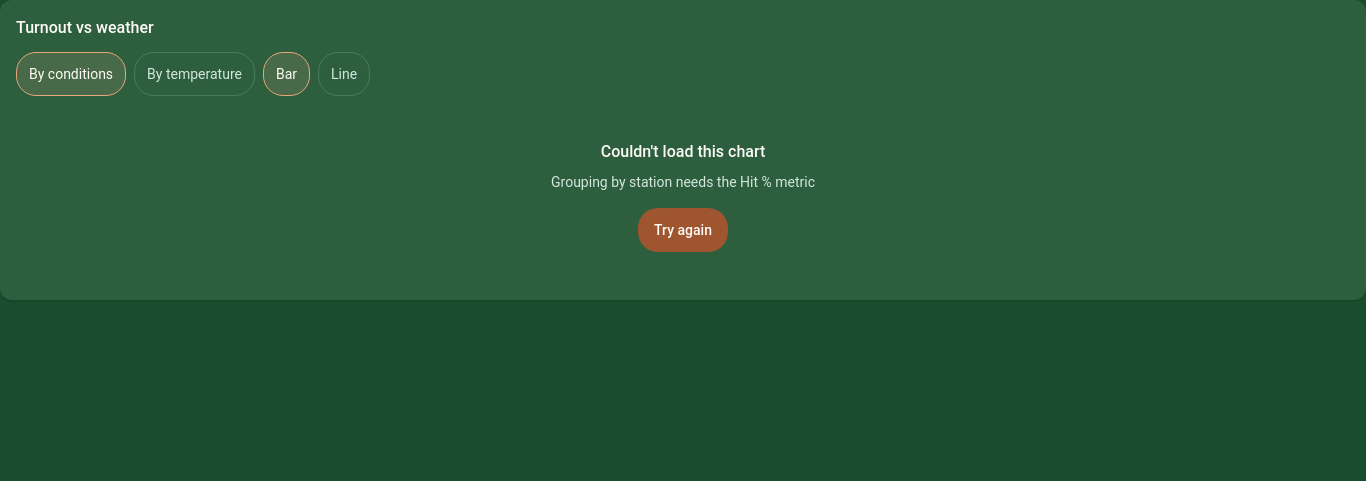
Test case: ChartCard › shows the server's invalid_query message and retries
expect the text "Grouping by station needs the Hit % metric" is shown: met, box [551,172,815,192]
What coordinates should you click on to do the following:
click the button "Try again"
I would click on:
 (683, 230)
Its box is [638,208,728,252].
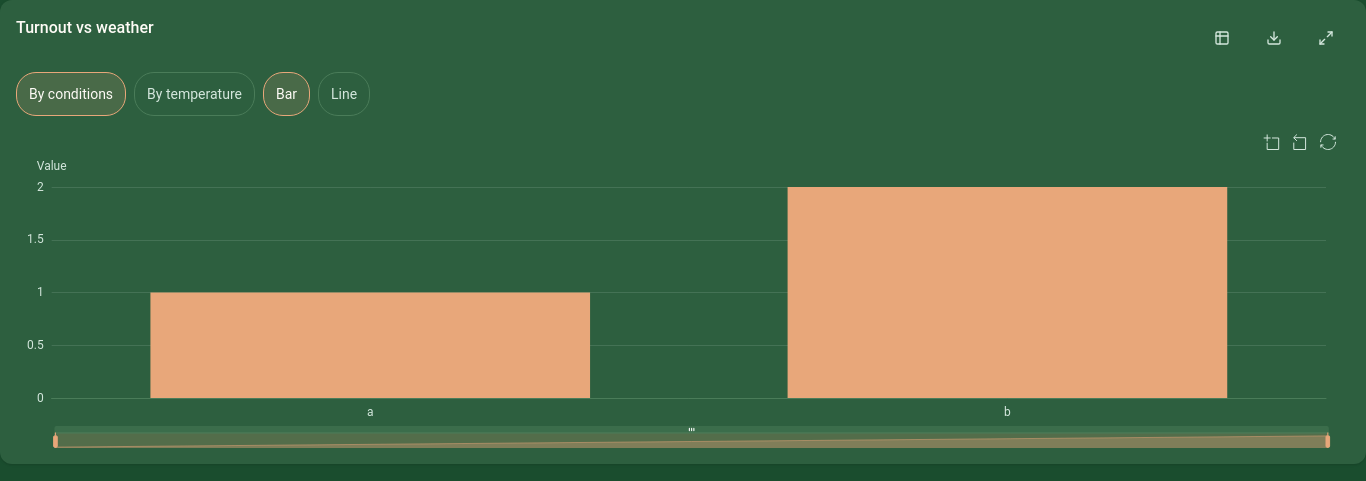
expect the picture named "Turnout vs weather" is shown: met
